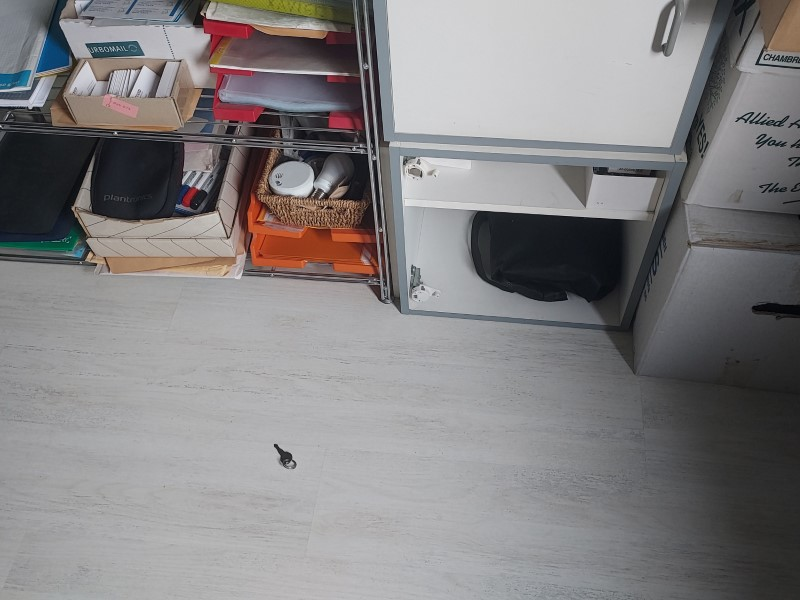key: (271, 442, 292, 466)
